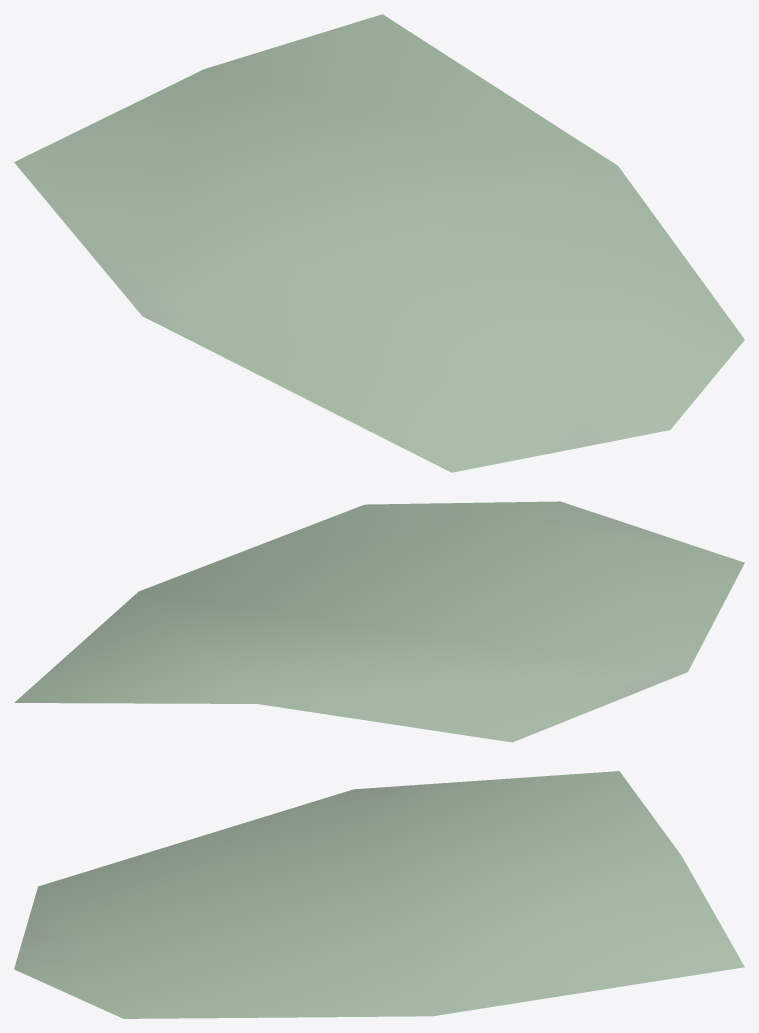
The model's file is TROLLHOLE02_HOLECAP06.fbx.
The picture shows the model from 3 angles, top to bottom: view 1: azimuth 30°, elevation 25°; view 2: azimuth 150°, elevation 25°; view 3: azimuth 270°, elevation 25°; orthographic projection. The views are drawn at different scales.
Visible parts, largest first — view 1: TROLLHOLE02_HOLECAP06; view 2: TROLLHOLE02_HOLECAP06; view 3: TROLLHOLE02_HOLECAP06.
Boxes of the visible parts, x1=… form: TROLLHOLE02_HOLECAP06: x1=14, y1=14, x2=744, y2=472; TROLLHOLE02_HOLECAP06: x1=14, y1=501, x2=744, y2=742; TROLLHOLE02_HOLECAP06: x1=14, y1=771, x2=744, y2=1018.
Size of the model in its own units: 19294 by 3450 by 27315.
1 material, 1 textured.
